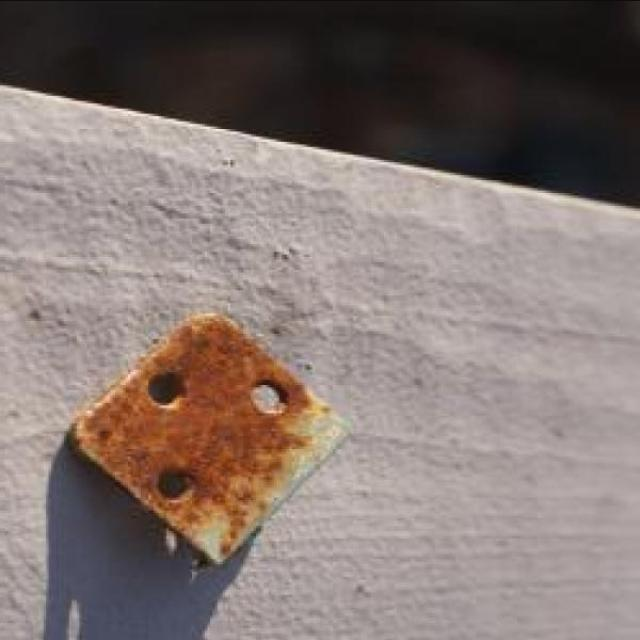corrosion: (134, 295, 356, 581), (39, 357, 359, 541)
